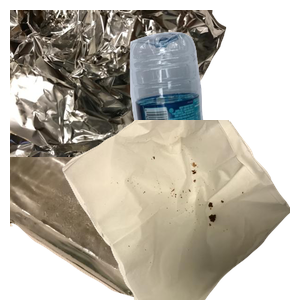glass: (10, 157, 190, 300)
metal: (10, 10, 229, 190)
plastic: (127, 29, 300, 209)
trash: (60, 120, 300, 300)
